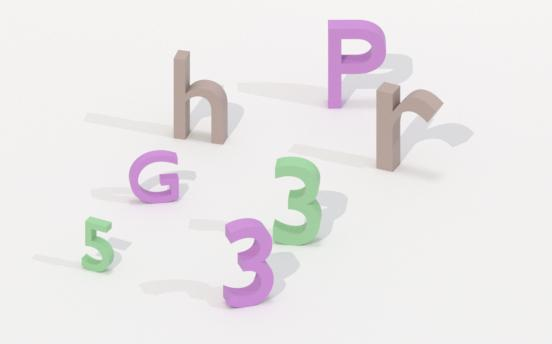3: (265, 155, 327, 248), (217, 218, 276, 311)
5: (80, 215, 115, 275)
G-hoa: (123, 148, 188, 204)
R: (371, 82, 448, 181)
h: (169, 51, 236, 143)
p: (326, 18, 386, 110)
